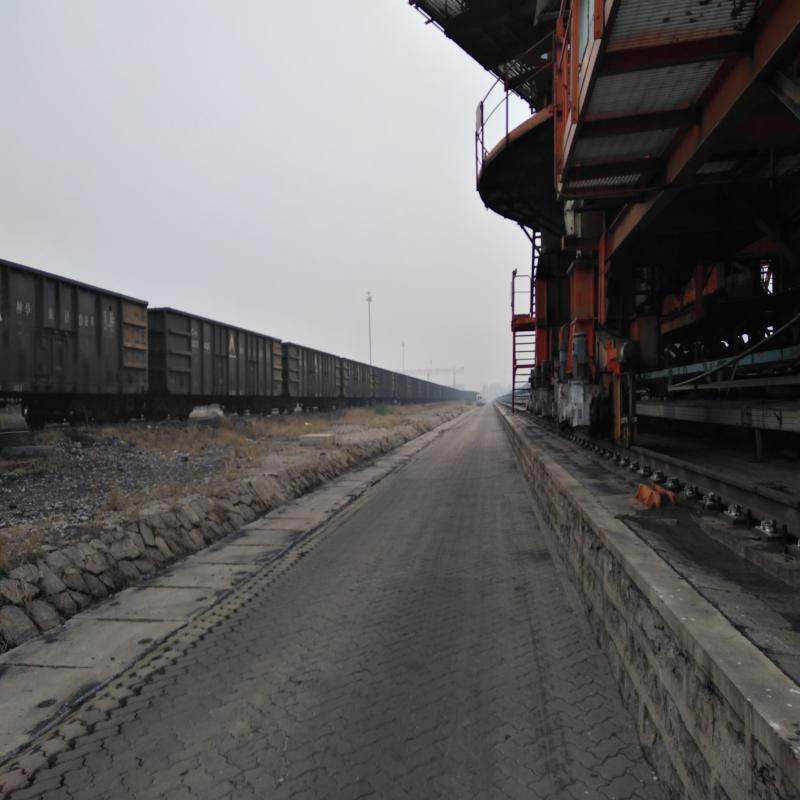train: (155, 306, 287, 418)
